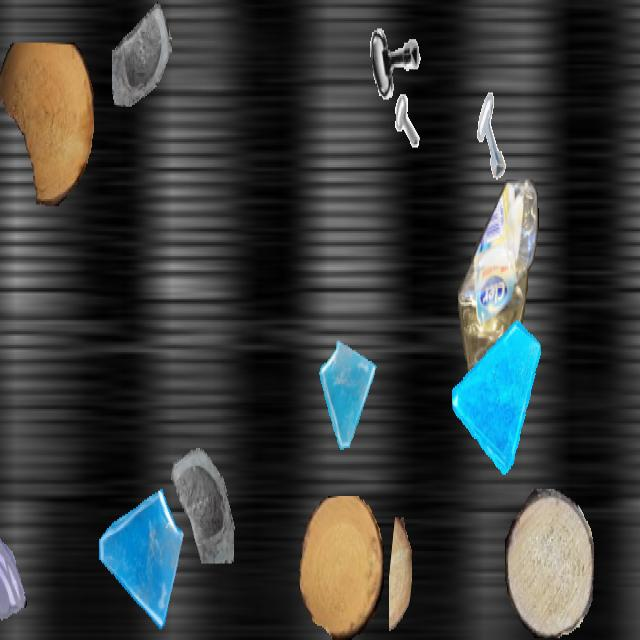glass: (95, 478, 185, 638), (452, 314, 542, 474), (161, 426, 237, 562), (316, 338, 380, 452), (112, 2, 172, 108), (0, 524, 28, 628)
metal: (363, 2, 425, 112), (469, 90, 519, 180), (371, 91, 419, 176)
plastic: (458, 180, 540, 439)
wood: (0, 43, 93, 206), (505, 489, 593, 638), (299, 496, 383, 638), (389, 518, 411, 638)
